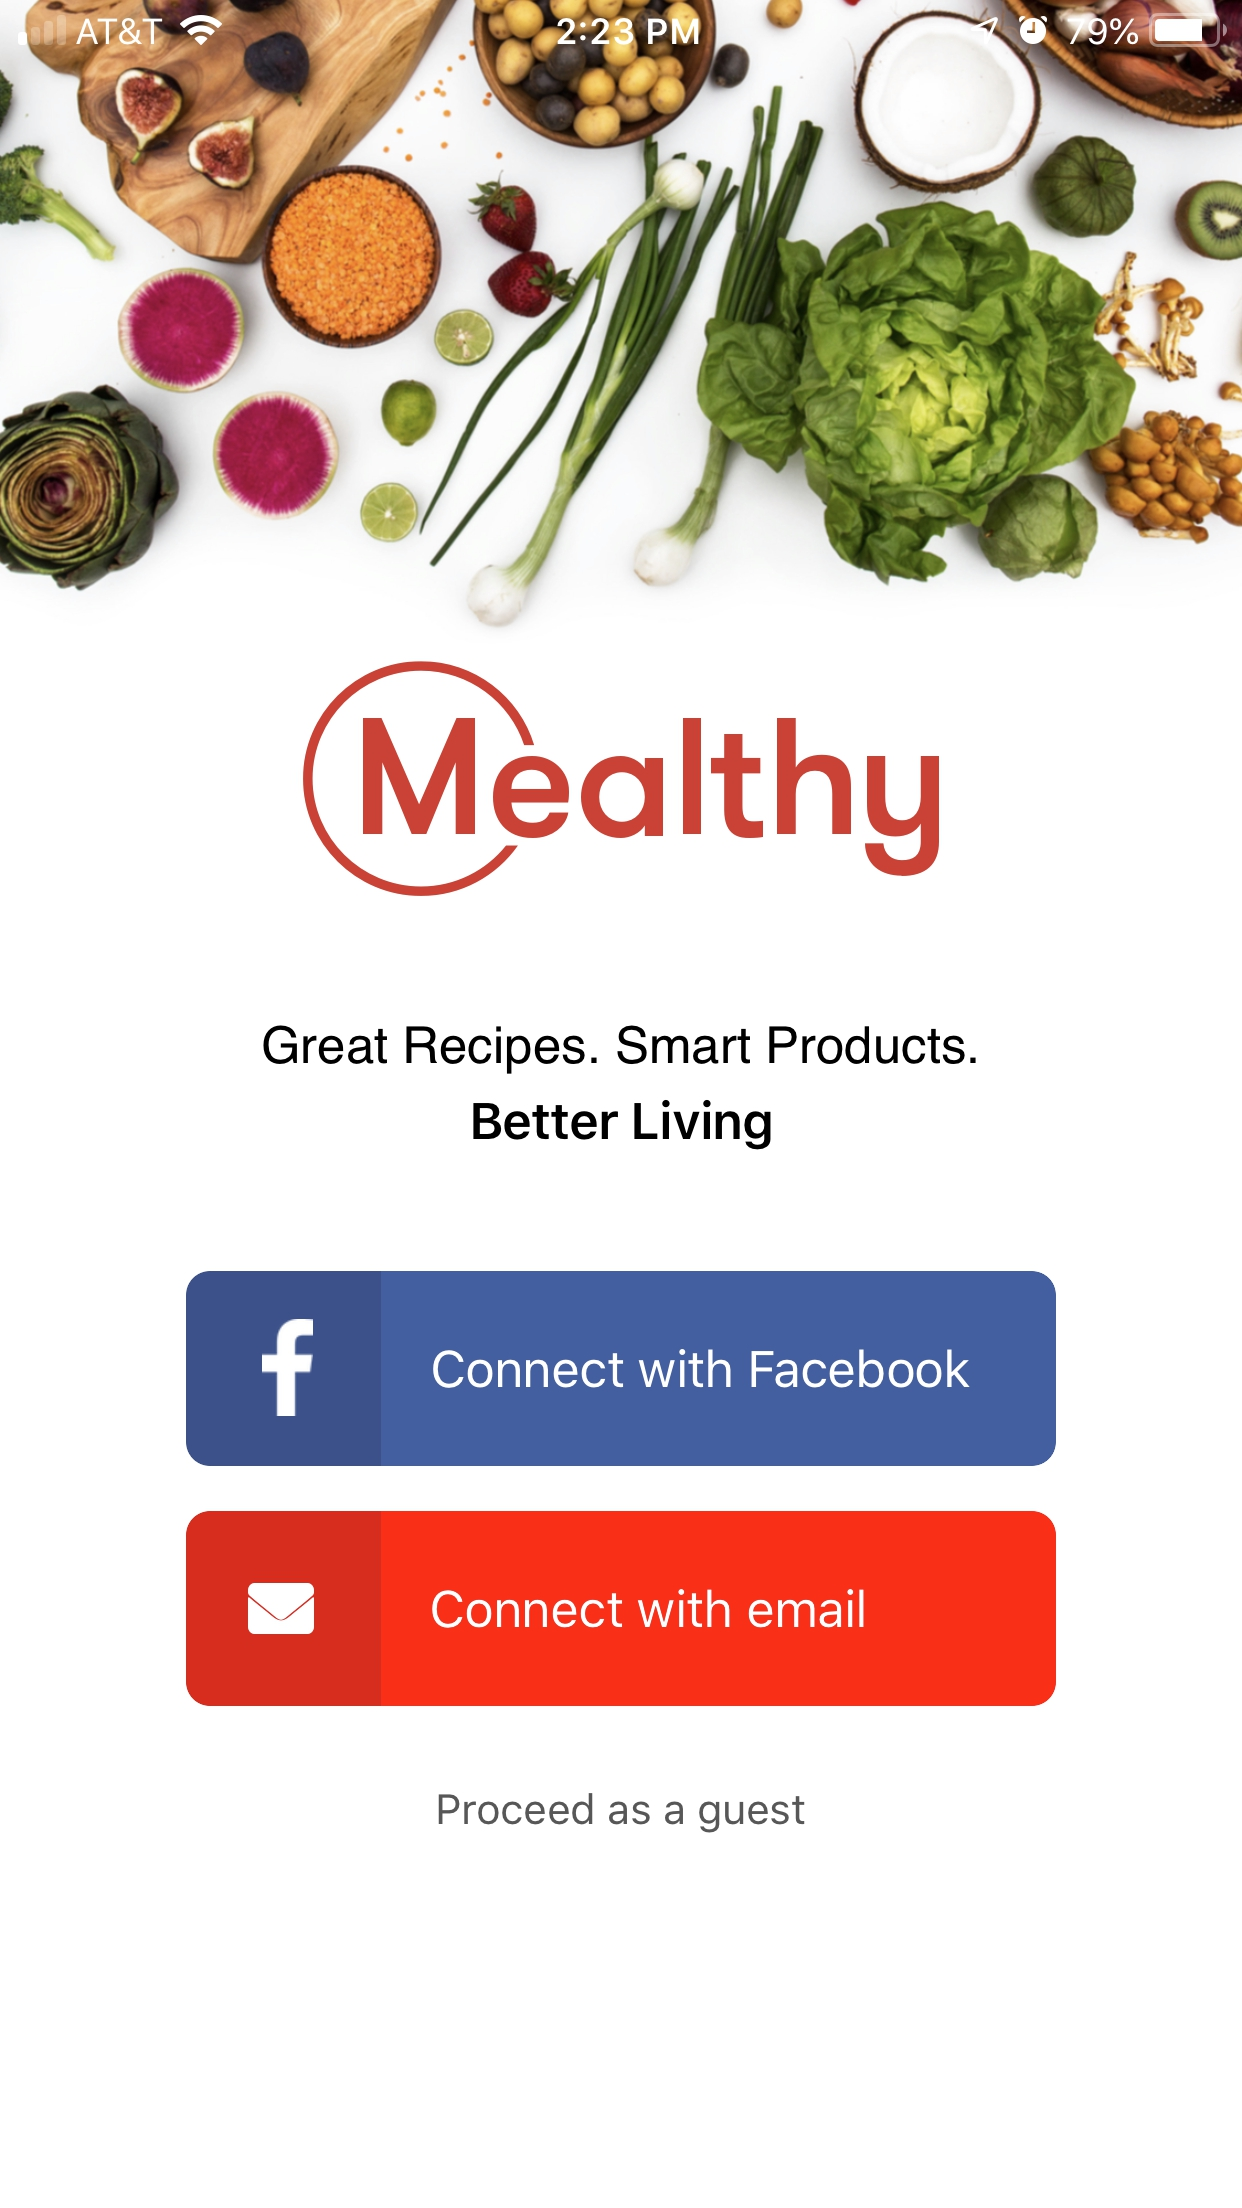Image: (2, 2, 1242, 631), (303, 661, 940, 898)
Text: (262, 1025, 977, 1151), (438, 1792, 805, 1833)
TextButton: (187, 1510, 1057, 1708), (187, 1271, 1057, 1466)
UpperTaskBar: (2, 2, 1242, 49)
